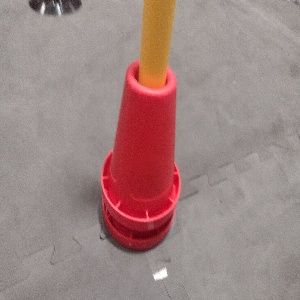Red_2: (97, 58, 179, 251)
